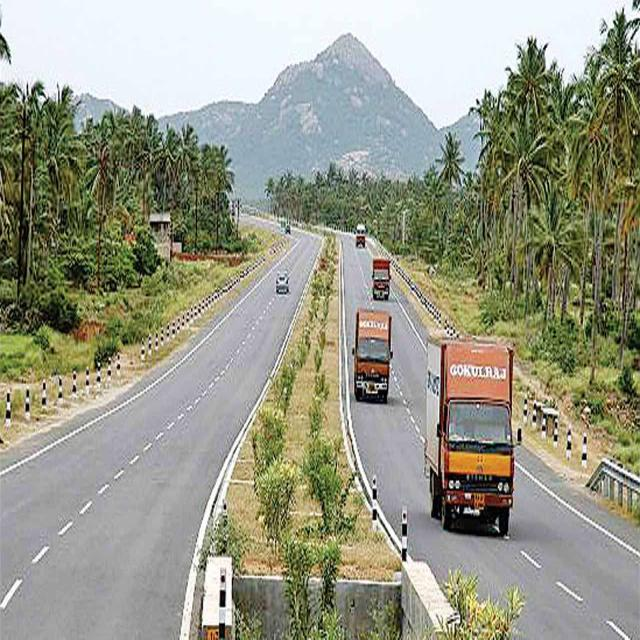Clean road: (0, 243, 640, 640)
